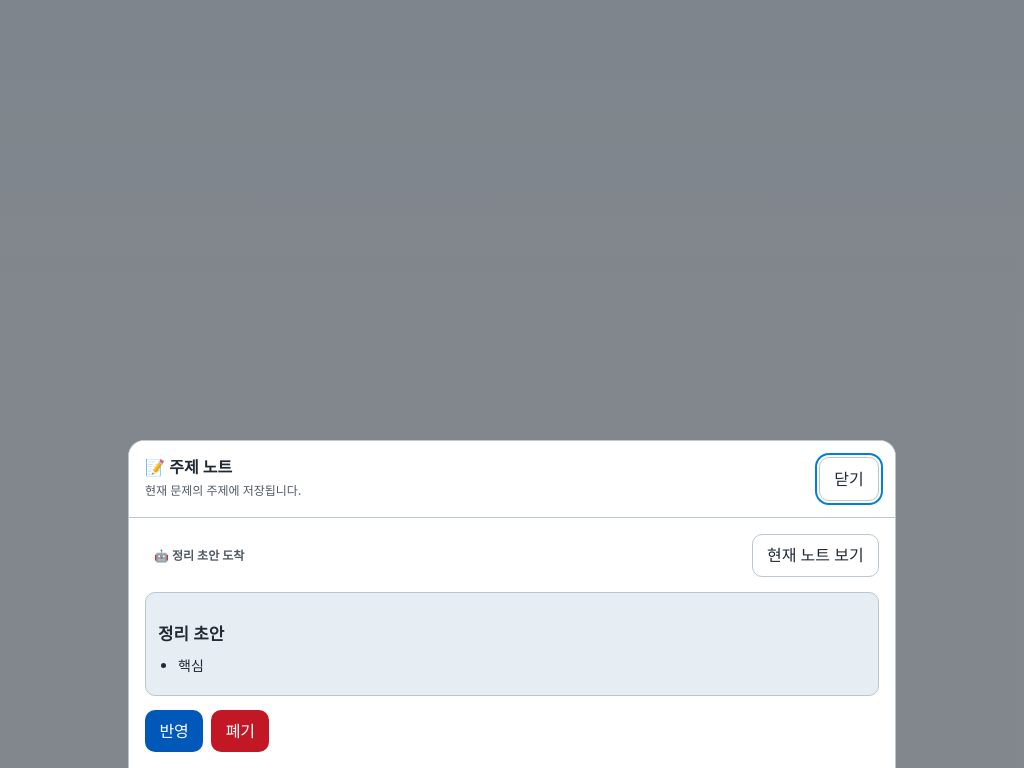
Test: NotePanel › 완료된 활성 AI 정리 작업을 다시 열어 초안 비교를 이어간다
Check: the message shows "정리 초안 도착", box [154, 547, 244, 564]
Check: the heading "정리 초안" is shown, box [158, 622, 224, 645]
Click the button "현재 노트 보기" at (815, 556), box [752, 534, 879, 577]
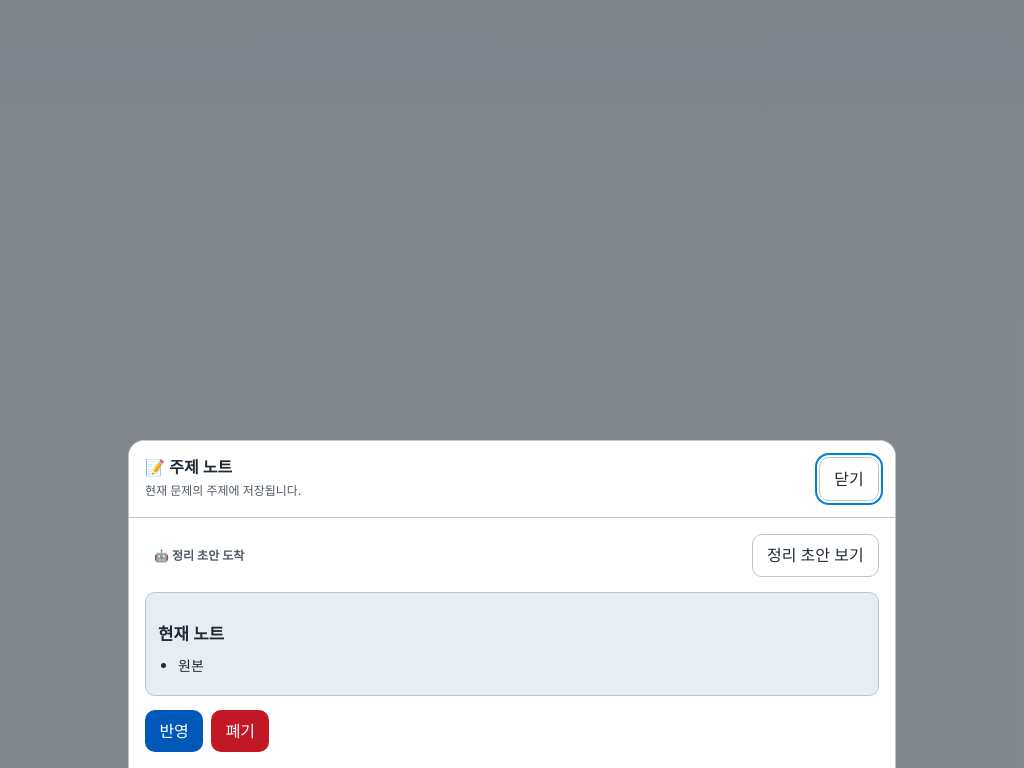
Check: the heading "현재 노트" is shown, box [158, 622, 224, 645]
